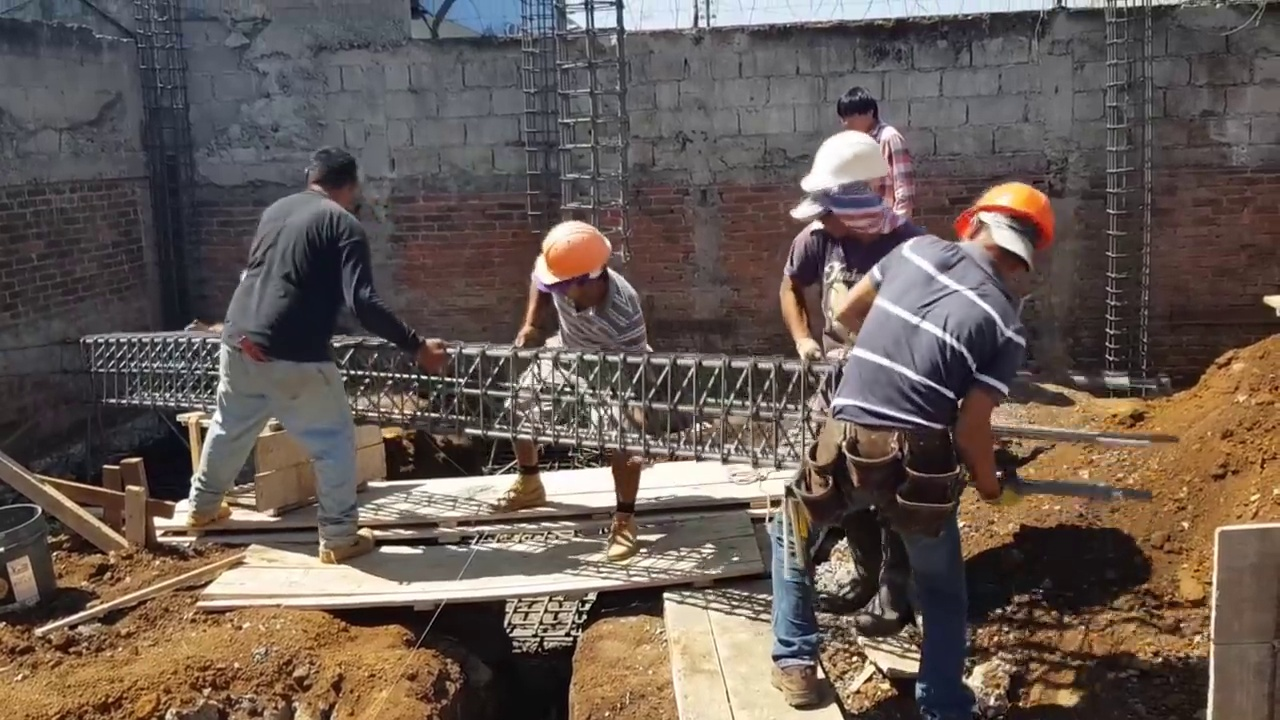helmet: (967, 183, 1054, 266), (798, 135, 891, 198), (531, 225, 606, 291)
helmet-off: (299, 148, 357, 213), (842, 89, 888, 138)
helmet-on: (944, 174, 1053, 303), (799, 135, 900, 246), (528, 227, 618, 314)
person: (785, 134, 1053, 666), (183, 129, 436, 579), (507, 224, 647, 400), (839, 88, 926, 238)
